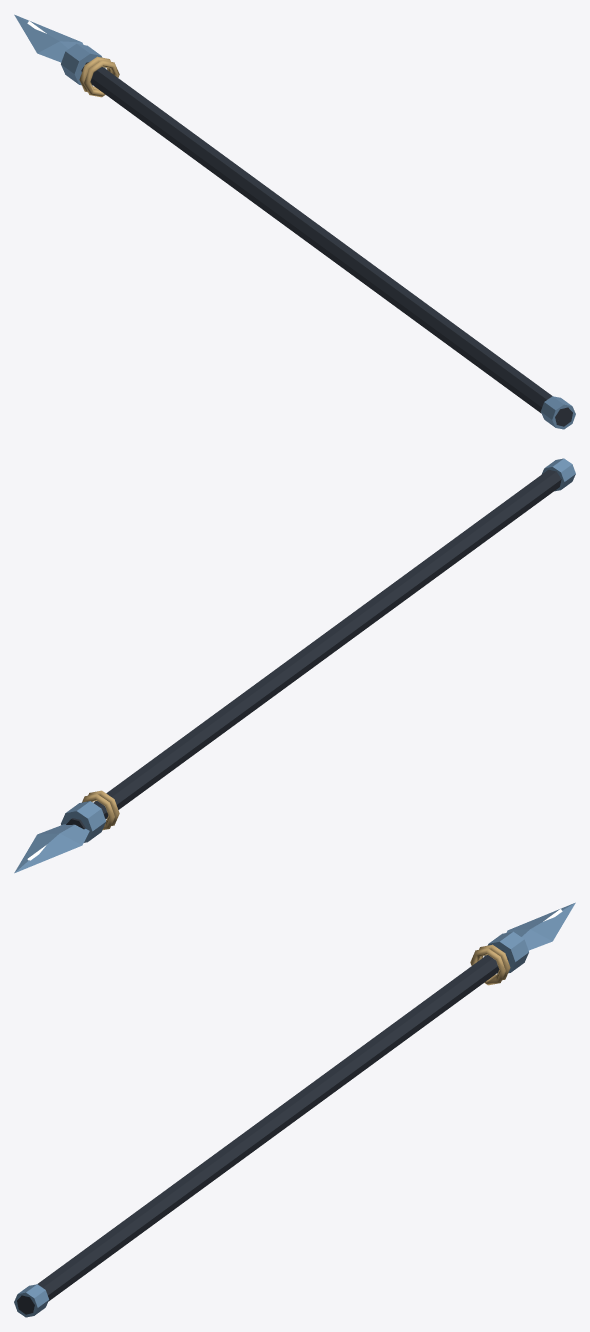
File: Weapon_Spear_Titanium.fbx
3 views of the same model, one above another, from view 1: azimuth 30°, elevation 25°; view 2: azimuth 150°, elevation 25°; view 3: azimuth 330°, elevation 25° (orthographic).
Visible parts, largest first — view 1: Weapon_Spear_Titanium; view 2: Weapon_Spear_Titanium; view 3: Weapon_Spear_Titanium.
Part boxes in pixels (x1,y1,x2,y2): Weapon_Spear_Titanium: [14, 14, 575, 429]; Weapon_Spear_Titanium: [14, 458, 575, 873]; Weapon_Spear_Titanium: [14, 902, 575, 1317].
Size of the model in its own units: 0.0342 by 0.027 by 0.72.
